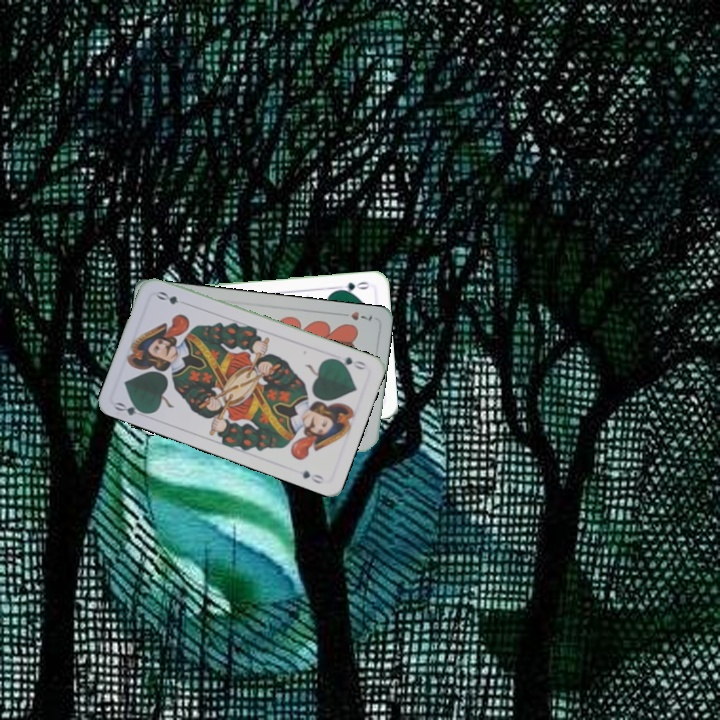GO: (111, 398, 152, 421), (329, 353, 369, 372), (333, 278, 373, 295)
H7: (336, 307, 375, 323)
